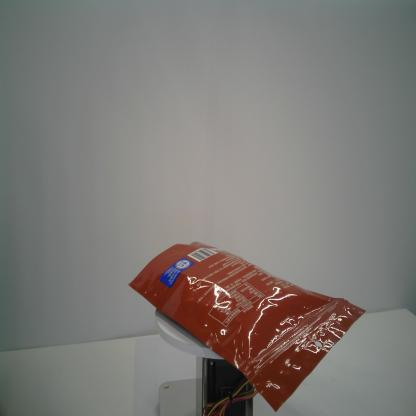Dried Food: (128, 241, 366, 414)
